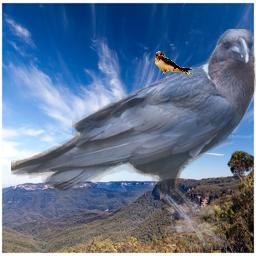Crow: (11, 29, 256, 249)
Swallow: (154, 51, 197, 77)
